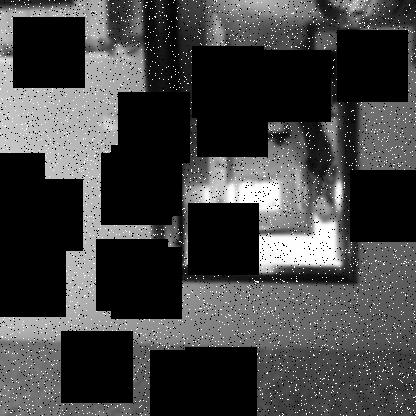Porte: (141, 1, 365, 284)
